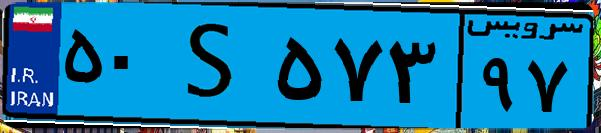0: (110, 28, 158, 98)
3: (385, 28, 445, 110)
5: (270, 28, 330, 110), (57, 26, 110, 100)
7: (330, 28, 385, 110), (525, 38, 570, 115)
9: (475, 38, 525, 113)
S: (158, 12, 270, 120)
